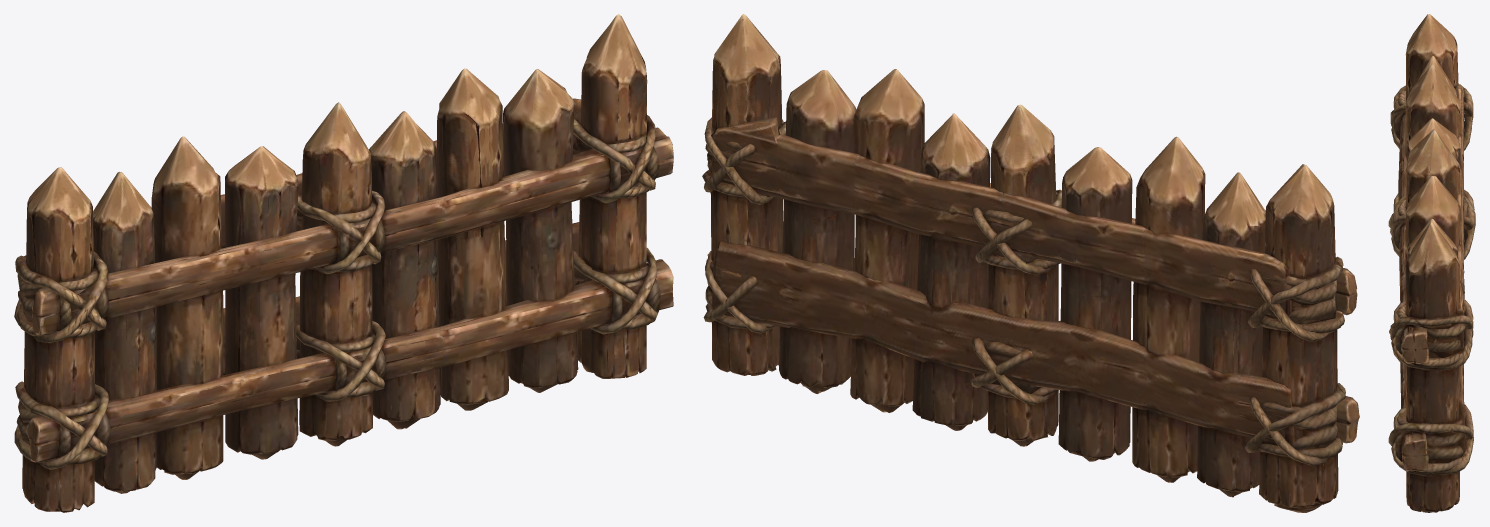
The model's file is shelter_t1_wall.glb.
The picture shows the model from 3 angles, left to right: view 1: azimuth 30°, elevation 25°; view 2: azimuth 150°, elevation 25°; view 3: azimuth 270°, elevation 25°; orthographic projection. The views are drawn at different scales.
Bounding box in the file's own units: 0.9556 × 0.5166 × 0.1396.
Materials: 1 (1 with a texture image).
